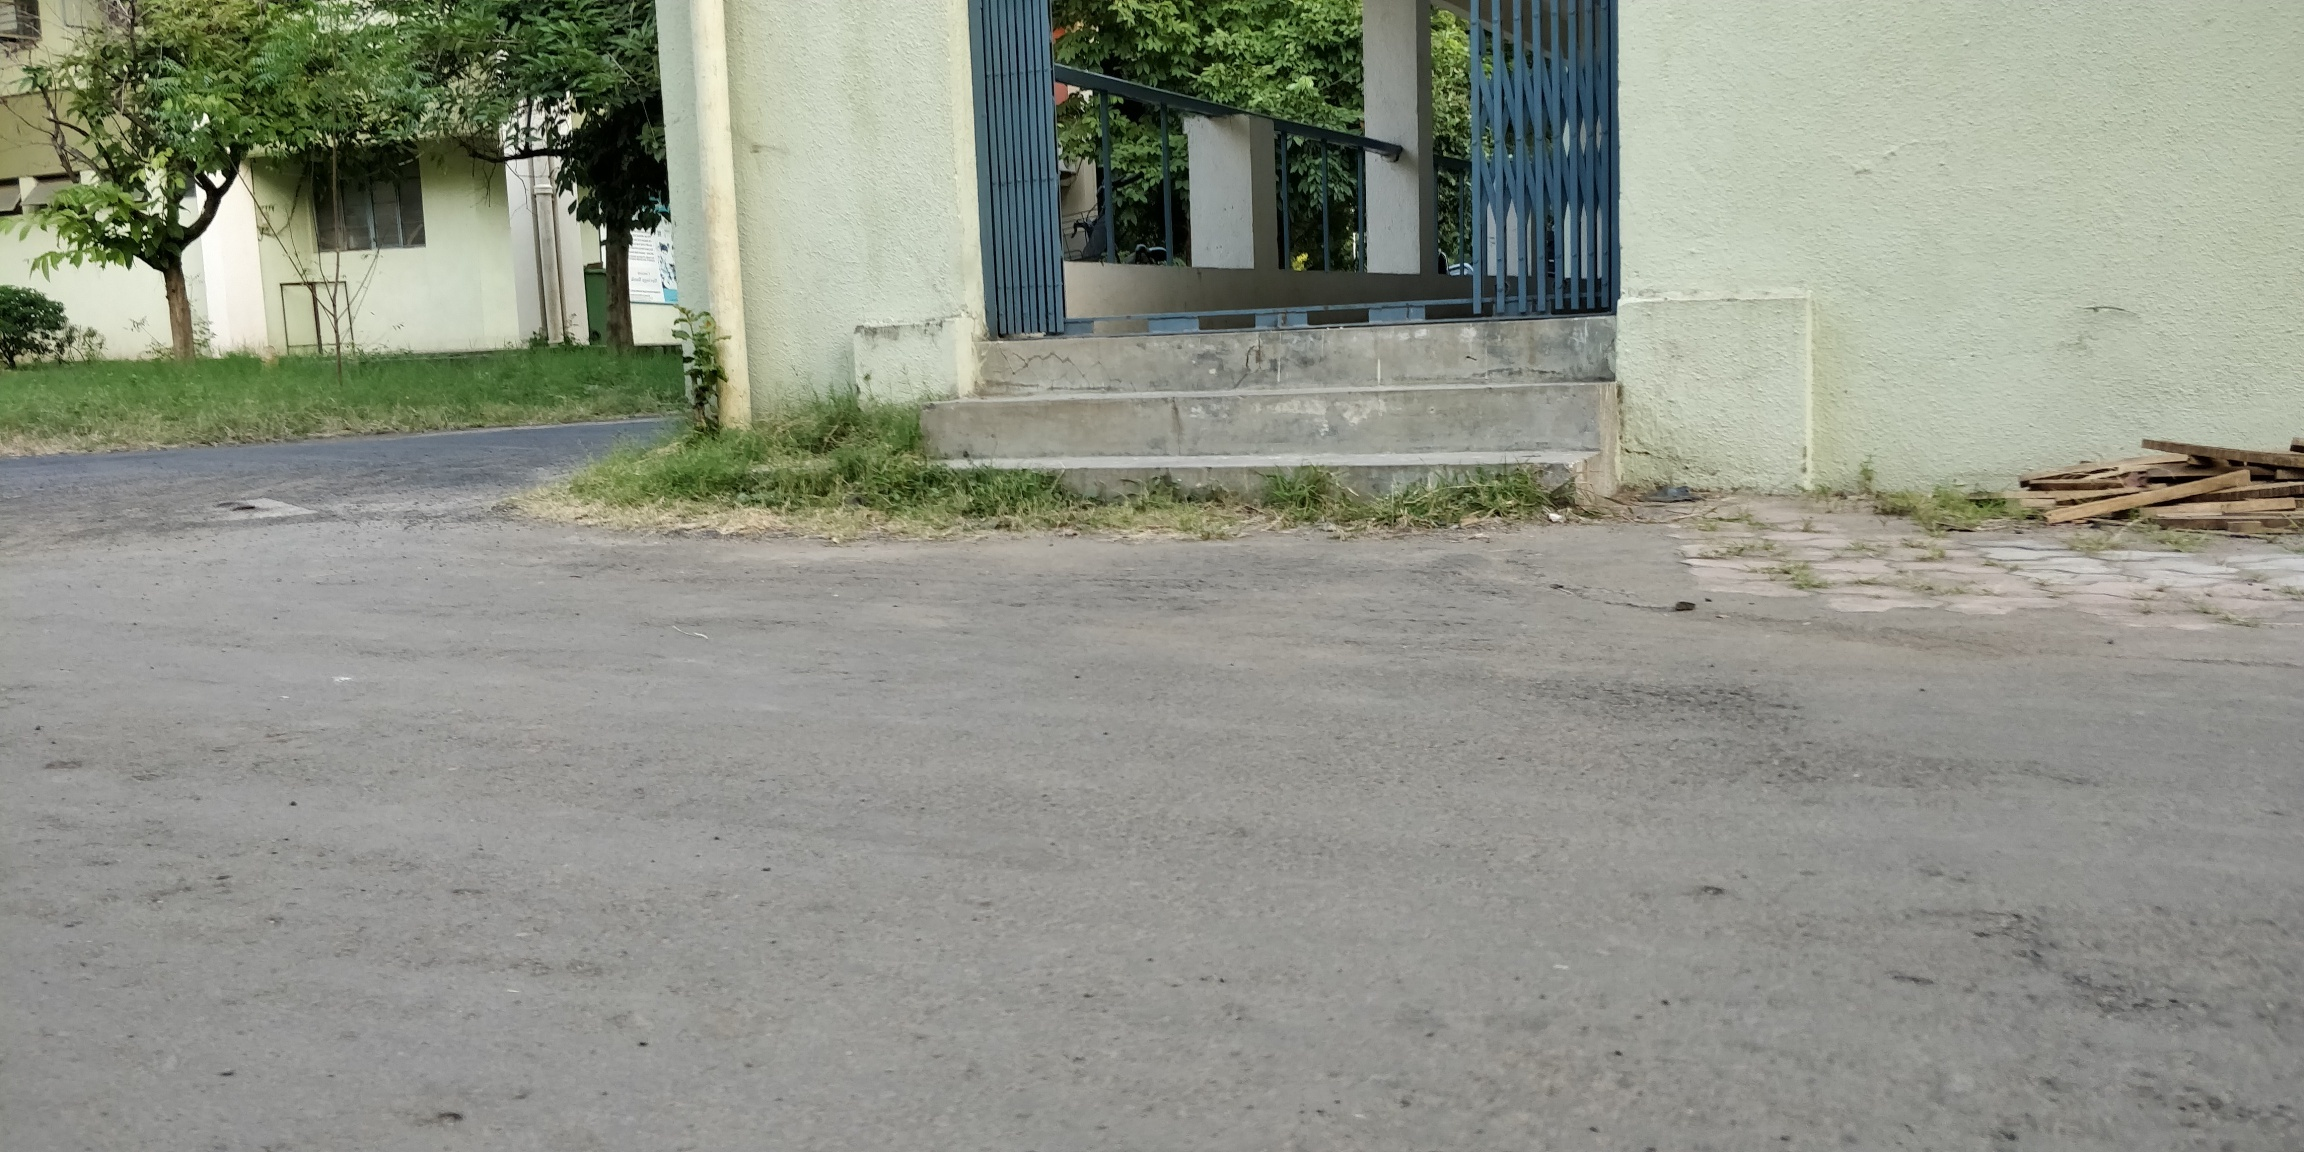stairs_up: (899, 298, 1619, 536)
